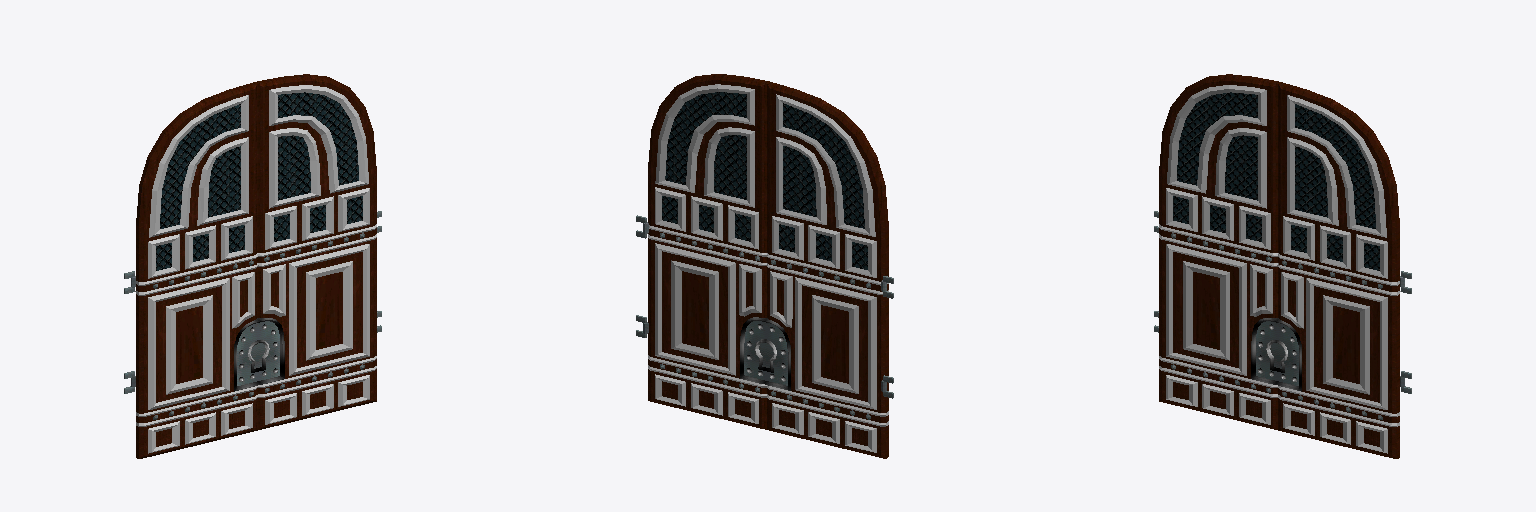
The picture shows the model from 3 angles: view 1: azimuth 30°, elevation 25°; view 2: azimuth 150°, elevation 25°; view 3: azimuth 330°, elevation 25°; orthographic projection.
Parts seen in each view (by area): view 1: wood2LP woodstep2, wood2RP woodstep3, wood2LD, wood2RD, wood2RP woodstep3 lattice, wood2LP woodstep2 lattice1, wood2LP, wood2RP, wood2LD env1 woodstep1, wood2RD env11 woodstep, wood2RD env11 woodstep metal, wood2LD env1 woodstep1 metal1 (+1 smaller); view 2: wood2LP woodstep2, wood2RP woodstep3, wood2LD, wood2RD, wood2LP woodstep2 lattice1, wood2RP woodstep3 lattice, wood2LP, wood2RP, wood2LD env1 woodstep1, wood2RD env11 woodstep, wood2RD env11 woodstep metal, wood2LD env1 woodstep1 metal1 (+1 smaller); view 3: wood2RP woodstep3, wood2LP woodstep2, wood2RD, wood2LD, wood2LP woodstep2 lattice1, wood2RP woodstep3 lattice, wood2RP, wood2LP, wood2RD env11 woodstep, wood2LD env1 woodstep1, wood2LD env1 woodstep1 metal1, wood2RD env11 woodstep metal (+1 smaller).
Part boxes in pixels (bbox=[...]): wood2LP woodstep2: bbox=[148, 95, 254, 453]; wood2RP woodstep3: bbox=[263, 85, 369, 424]; wood2LD: bbox=[136, 82, 257, 458]; wood2RD: bbox=[256, 74, 376, 429]; wood2RP woodstep3 lattice: bbox=[274, 92, 362, 241]; wood2LP woodstep2 lattice1: bbox=[156, 104, 244, 270]; wood2LP: bbox=[156, 280, 247, 446]; wood2RP: bbox=[271, 252, 362, 417]; wood2LD env1 woodstep1: bbox=[135, 253, 257, 426]; wood2RD env11 woodstep: bbox=[258, 224, 376, 397]; wood2RD env11 woodstep metal: bbox=[258, 321, 279, 380]; wood2LD env1 woodstep1 metal1: bbox=[237, 323, 257, 385]; wood2LP woodstep2: bbox=[770, 94, 876, 452]; wood2RP woodstep3: bbox=[655, 84, 761, 423]; wood2LD: bbox=[767, 82, 888, 458]; wood2RD: bbox=[648, 74, 769, 429]; wood2LP woodstep2 lattice1: bbox=[779, 103, 867, 269]; wood2RP woodstep3 lattice: bbox=[662, 92, 750, 241]; wood2LP: bbox=[777, 279, 867, 445]; wood2RP: bbox=[662, 251, 752, 417]; wood2LD env1 woodstep1: bbox=[767, 253, 888, 426]; wood2RD env11 woodstep: bbox=[648, 225, 766, 397]; wood2RD env11 woodstep metal: bbox=[744, 321, 766, 380]; wood2LD env1 woodstep1 metal1: bbox=[766, 323, 787, 385]; wood2RP woodstep3: bbox=[1281, 95, 1387, 453]; wood2LP woodstep2: bbox=[1166, 85, 1272, 424]; wood2RD: bbox=[1278, 82, 1399, 458]; wood2LD: bbox=[1159, 74, 1279, 429]; wood2LP woodstep2 lattice1: bbox=[1173, 92, 1261, 241]; wood2RP woodstep3 lattice: bbox=[1291, 104, 1379, 270]; wood2RP: bbox=[1288, 280, 1379, 446]; wood2LP: bbox=[1173, 252, 1264, 417]; wood2RD env11 woodstep: bbox=[1278, 253, 1400, 426]; wood2LD env1 woodstep1: bbox=[1159, 224, 1277, 397]; wood2LD env1 woodstep1 metal1: bbox=[1256, 321, 1277, 380]; wood2RD env11 woodstep metal: bbox=[1278, 323, 1298, 385].
Size of the model in its own units: 540 by 696 by 32.5.
5 materials, 4 textured.